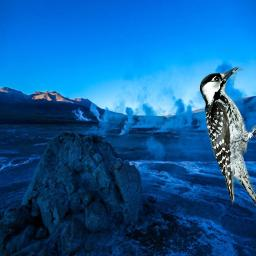Woodpecker: (199, 66, 256, 206)
